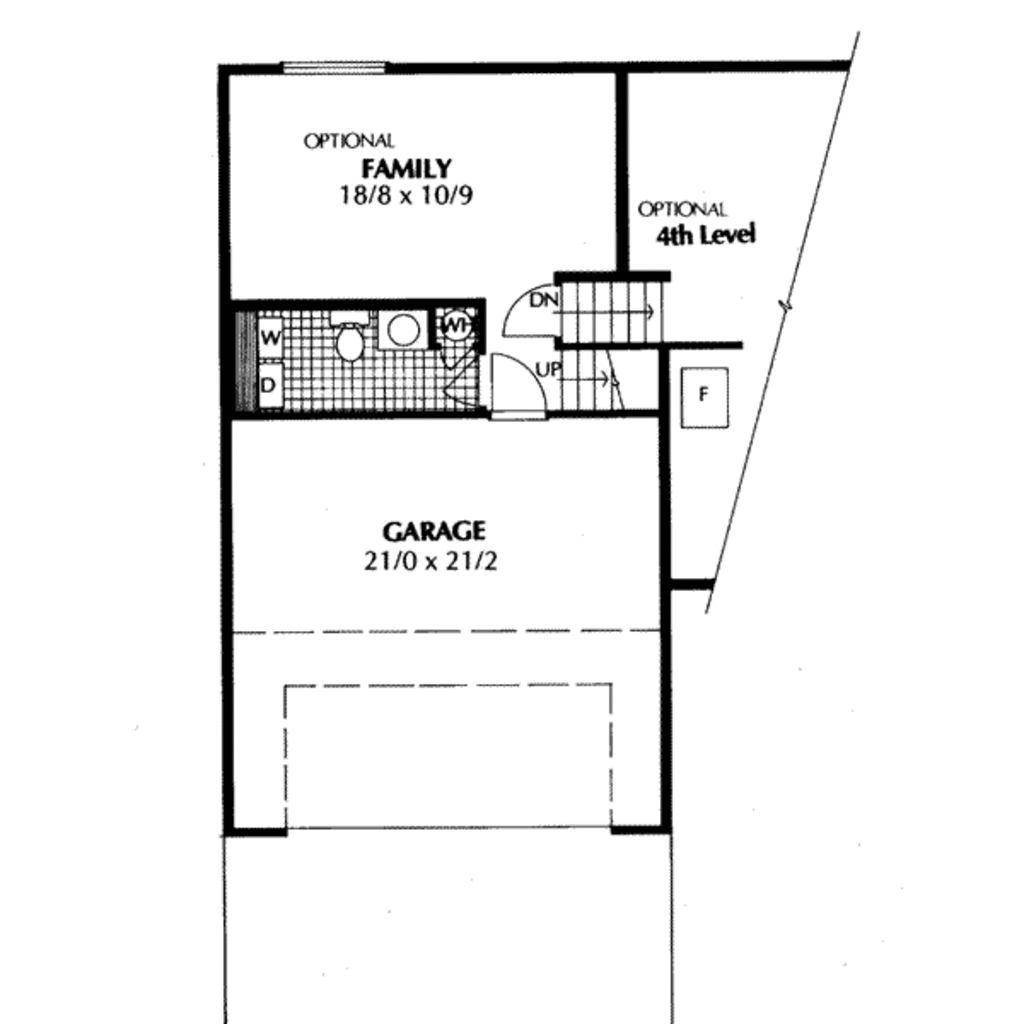door: (481, 355, 556, 427), (500, 278, 565, 338), (443, 358, 483, 403)
large_sink: (329, 306, 378, 366)
stairs: (554, 276, 675, 408)
window: (283, 54, 387, 82)
